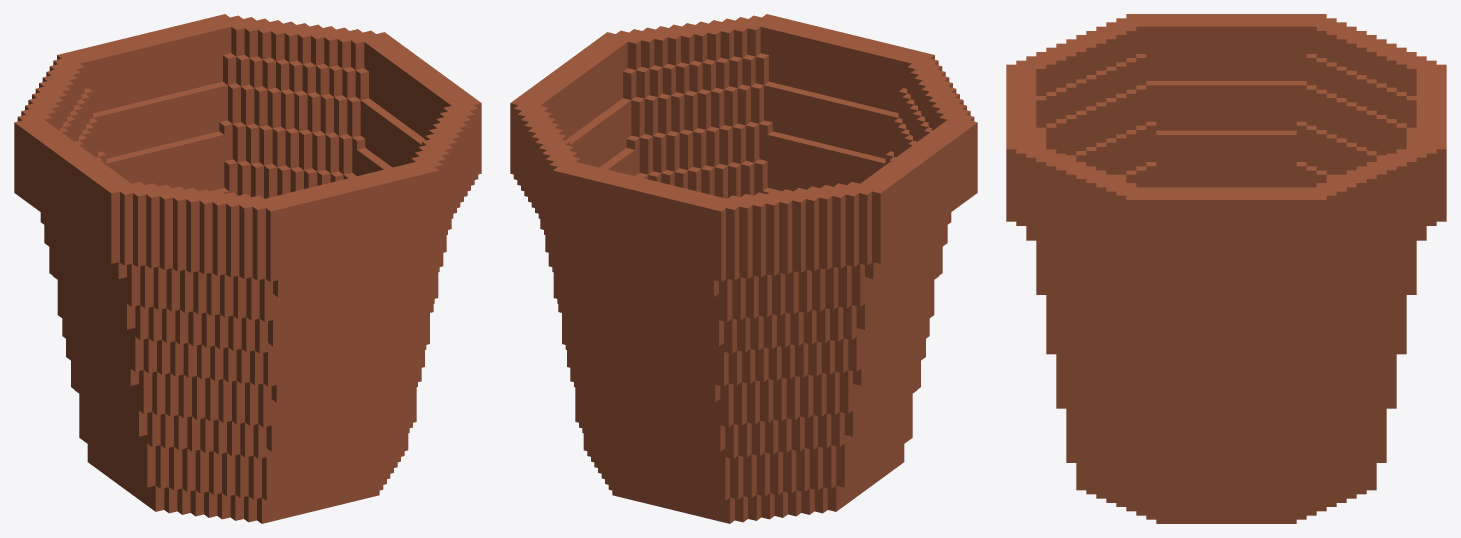
Rendered from clay_pot_flower.glb.
The picture shows the model from 3 angles, left to right: view 1: azimuth 30°, elevation 25°; view 2: azimuth 150°, elevation 25°; view 3: azimuth 270°, elevation 25°; orthographic projection. The views are drawn at different scales.
Visible parts, largest first — view 1: clay_pot_flower:compound; view 2: clay_pot_flower:compound; view 3: clay_pot_flower:compound.
Part boxes in pixels (x1,y1,x2,y2): clay_pot_flower:compound: (14,14,481,523); clay_pot_flower:compound: (510,14,977,523); clay_pot_flower:compound: (1006,14,1446,523).
Bounding box in the file's own units: 0.176 × 0.156 × 0.176.
